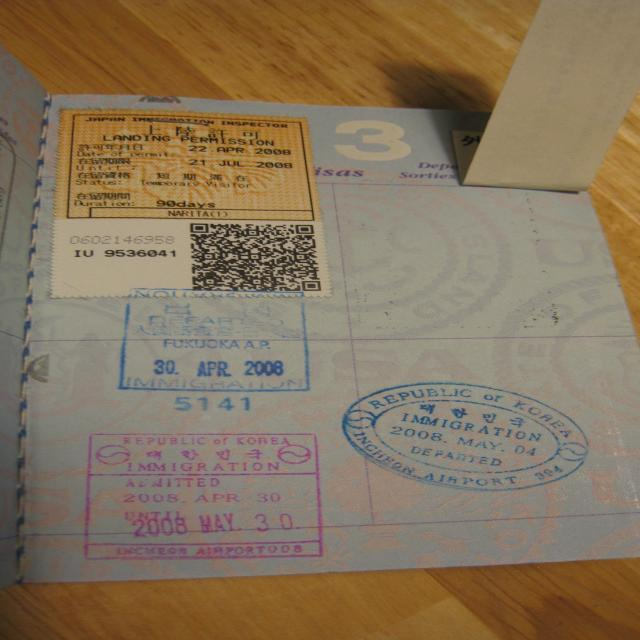qr-code: (190, 223, 320, 290)
